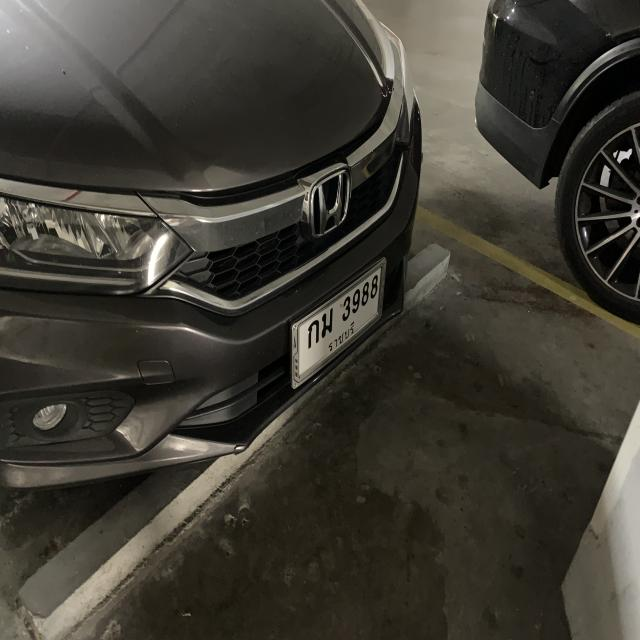license_plate: (289, 254, 391, 395)
